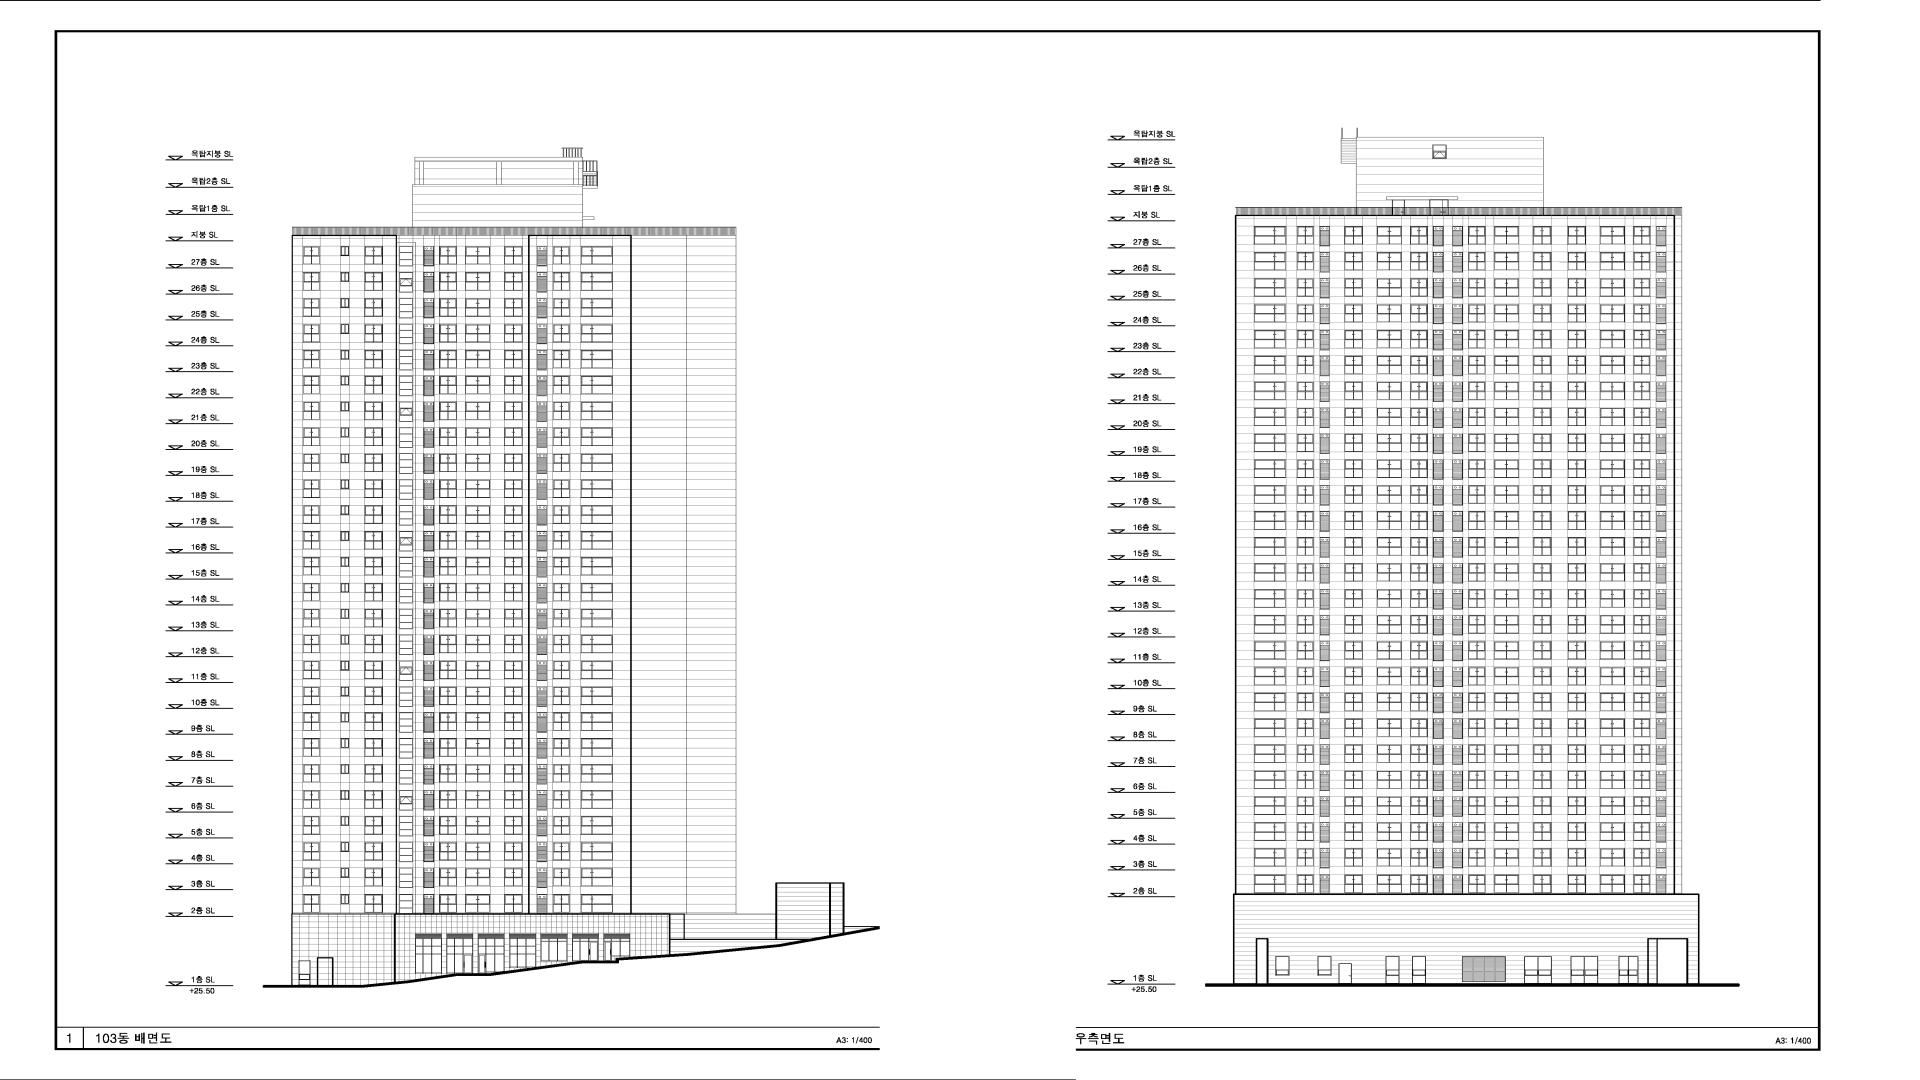door: (1656, 938, 1688, 984), (1255, 938, 1269, 984), (316, 957, 334, 985), (1338, 963, 1352, 984), (589, 942, 599, 961), (464, 953, 473, 973), (477, 953, 487, 973), (604, 940, 612, 960)
wall: (291, 157, 880, 988), (1233, 137, 1700, 986)
window: (1461, 956, 1506, 982), (415, 939, 442, 973), (509, 938, 537, 968), (1524, 956, 1552, 984), (1571, 956, 1598, 984), (580, 479, 613, 498), (485, 939, 505, 972), (1254, 225, 1286, 245), (1254, 303, 1286, 323), (580, 247, 613, 265), (580, 376, 613, 394), (580, 427, 613, 446), (580, 454, 613, 472), (580, 556, 613, 575), (580, 661, 613, 679), (580, 687, 613, 705), (580, 712, 613, 731), (580, 738, 613, 757), (580, 790, 613, 808), (580, 843, 613, 861), (580, 894, 613, 913), (1253, 330, 1286, 348), (541, 939, 567, 961), (580, 272, 612, 290), (580, 298, 612, 316), (580, 324, 612, 343), (580, 349, 612, 368), (580, 402, 612, 421), (580, 505, 612, 524), (580, 531, 612, 550), (580, 583, 612, 601), (580, 609, 612, 628), (580, 634, 612, 653), (580, 765, 612, 783), (580, 816, 612, 835), (580, 868, 612, 886), (1254, 252, 1286, 270), (1254, 278, 1286, 297), (1254, 356, 1286, 375), (1254, 382, 1286, 401), (1254, 407, 1286, 426), (1254, 434, 1286, 452), (1254, 459, 1286, 477), (1254, 485, 1286, 504), (1254, 512, 1286, 530), (1254, 537, 1286, 555), (1254, 563, 1286, 582), (1254, 589, 1286, 608), (1254, 615, 1286, 633), (1254, 641, 1286, 659), (1254, 667, 1286, 686), (1254, 692, 1286, 711), (1254, 719, 1286, 737), (1254, 745, 1286, 764), (1254, 771, 1286, 790), (1254, 796, 1286, 815), (1254, 823, 1286, 841), (1254, 848, 1286, 866), (1254, 874, 1286, 893), (447, 938, 463, 973), (1618, 956, 1638, 984), (464, 816, 491, 835), (464, 764, 491, 782), (464, 634, 491, 653), (465, 894, 491, 913), (465, 868, 491, 886), (465, 841, 491, 860), (465, 790, 491, 808), (465, 738, 491, 757), (465, 712, 491, 731), (465, 687, 491, 705), (465, 661, 491, 679), (465, 609, 491, 628), (465, 583, 491, 601), (465, 556, 491, 575), (465, 531, 491, 550), (465, 505, 491, 524), (465, 480, 491, 498), (465, 454, 491, 472), (465, 427, 491, 446), (465, 402, 491, 421), (465, 376, 491, 394), (465, 349, 491, 368), (465, 324, 491, 343), (465, 298, 491, 316), (465, 272, 491, 290), (465, 247, 491, 265), (1600, 485, 1625, 504), (1600, 459, 1625, 477), (1600, 434, 1625, 452), (1600, 407, 1625, 426), (1600, 381, 1625, 400), (1600, 356, 1625, 375), (1600, 330, 1625, 348), (1600, 303, 1625, 322), (1600, 278, 1625, 297), (1600, 252, 1625, 270), (1600, 225, 1625, 244), (1494, 407, 1519, 426), (1494, 434, 1519, 452), (1494, 459, 1519, 477), (1494, 485, 1519, 504), (1494, 512, 1519, 530), (1494, 537, 1519, 555), (1494, 563, 1519, 582), (1494, 589, 1519, 608), (1494, 615, 1519, 633), (1494, 641, 1519, 659), (1494, 667, 1519, 686), (1494, 692, 1519, 711), (1494, 719, 1519, 737), (1494, 745, 1519, 764), (1494, 770, 1519, 789), (1494, 796, 1519, 815), (1494, 848, 1519, 866), (1494, 874, 1519, 893), (1600, 874, 1625, 893), (1600, 848, 1625, 866), (1600, 823, 1625, 841), (1600, 796, 1625, 815), (1600, 770, 1625, 789), (1600, 745, 1625, 764), (1600, 719, 1625, 737), (1600, 692, 1625, 711), (1600, 667, 1625, 686), (1600, 641, 1625, 659), (1600, 615, 1625, 633), (1600, 589, 1625, 608), (1600, 563, 1625, 582), (1600, 537, 1625, 555), (1600, 512, 1625, 530), (1377, 874, 1402, 893), (1377, 848, 1402, 866), (1377, 823, 1402, 841), (1377, 796, 1402, 815), (1377, 770, 1402, 789), (1377, 745, 1402, 764), (1377, 719, 1402, 737), (1377, 692, 1402, 711), (1377, 667, 1402, 686), (1377, 641, 1402, 659), (1377, 589, 1402, 608), (1377, 563, 1402, 582), (1377, 537, 1402, 555), (1377, 512, 1402, 530), (1377, 485, 1402, 504), (1377, 459, 1402, 477), (1377, 434, 1402, 452), (1377, 407, 1402, 426), (1377, 381, 1402, 400), (1377, 356, 1402, 375), (1377, 330, 1402, 348), (1377, 303, 1402, 322), (1377, 278, 1402, 297), (1377, 252, 1402, 270), (1377, 227, 1402, 245), (1494, 225, 1519, 244), (1494, 252, 1519, 270), (1494, 278, 1519, 297), (1494, 303, 1519, 322), (1494, 330, 1519, 348), (1494, 356, 1519, 375), (1494, 381, 1519, 400), (1494, 823, 1519, 840), (1377, 616, 1402, 633), (1385, 956, 1399, 984), (572, 938, 588, 961), (364, 427, 384, 446), (364, 324, 384, 343), (504, 272, 524, 290), (504, 323, 524, 342), (504, 376, 524, 394), (504, 686, 524, 704), (504, 841, 522, 861), (364, 868, 384, 886), (364, 816, 384, 835), (364, 790, 384, 808), (364, 764, 384, 782), (364, 712, 384, 731), (364, 686, 384, 704), (364, 583, 384, 601), (364, 556, 384, 575), (364, 505, 384, 524), (1296, 225, 1315, 245), (1296, 615, 1315, 634), (1410, 381, 1428, 401), (1633, 381, 1651, 401), (1633, 537, 1651, 556), (1633, 615, 1651, 634), (1633, 848, 1651, 868), (1412, 956, 1425, 984), (1532, 225, 1552, 244), (1532, 252, 1552, 270), (1532, 278, 1552, 297), (1532, 303, 1552, 322), (1532, 330, 1552, 348), (1532, 382, 1552, 401), (1532, 407, 1552, 426), (1532, 434, 1552, 452), (1532, 459, 1552, 477), (1532, 485, 1552, 504), (1532, 512, 1552, 530), (1532, 537, 1552, 555), (1532, 589, 1552, 608), (1532, 615, 1552, 633), (1532, 641, 1552, 659), (1532, 719, 1552, 737), (1532, 848, 1552, 866), (1532, 874, 1552, 893), (1567, 770, 1586, 789), (1567, 745, 1586, 764), (1567, 589, 1586, 608), (1567, 512, 1586, 530), (1568, 459, 1586, 479), (1567, 381, 1585, 401), (1568, 355, 1586, 375), (1633, 225, 1651, 245), (302, 247, 320, 265), (302, 272, 320, 290), (302, 298, 320, 316), (302, 324, 320, 343), (302, 349, 320, 368), (302, 376, 320, 394), (302, 402, 320, 421), (302, 427, 320, 446), (302, 454, 320, 472), (302, 505, 320, 524), (302, 531, 320, 550), (302, 583, 320, 601), (302, 686, 320, 704), (302, 712, 320, 731), (302, 738, 320, 757), (302, 765, 320, 783), (302, 790, 320, 808), (302, 816, 320, 835), (302, 841, 320, 860), (364, 479, 382, 497), (364, 454, 382, 472), (364, 376, 382, 394), (364, 349, 382, 368), (364, 298, 382, 316), (364, 272, 382, 290), (504, 245, 522, 264), (504, 298, 522, 316), (504, 349, 522, 368), (504, 402, 522, 421), (504, 427, 522, 446), (504, 454, 522, 472), (504, 479, 522, 497), (504, 505, 522, 524), (504, 531, 522, 550), (504, 556, 522, 575), (504, 583, 522, 601), (504, 609, 522, 628), (504, 634, 522, 653), (504, 661, 522, 679), (504, 712, 522, 731), (504, 738, 522, 757), (504, 765, 522, 783), (504, 790, 522, 808), (504, 816, 522, 835), (504, 868, 522, 886), (504, 894, 522, 913), (612, 938, 630, 956), (364, 894, 382, 913), (364, 841, 382, 860), (364, 738, 382, 757), (364, 661, 382, 679), (364, 634, 382, 653), (364, 609, 382, 628), (364, 531, 382, 550), (1296, 356, 1315, 375), (1296, 407, 1315, 426), (1296, 434, 1315, 452), (1296, 667, 1315, 686), (1410, 356, 1428, 375), (1410, 407, 1428, 426), (1410, 434, 1428, 452), (1410, 459, 1428, 477), (1410, 485, 1428, 504), (1410, 512, 1428, 530), (1410, 537, 1428, 555), (1410, 563, 1428, 582), (1410, 589, 1428, 608), (1410, 615, 1428, 633), (1410, 641, 1428, 659), (1410, 692, 1428, 711), (1410, 719, 1428, 737), (1410, 745, 1428, 764), (1410, 770, 1428, 789), (1410, 796, 1428, 815), (1410, 822, 1428, 840), (1410, 848, 1428, 866), (1410, 874, 1428, 893), (1468, 874, 1486, 893), (1468, 848, 1486, 866), (1633, 305, 1651, 323), (1633, 330, 1651, 348), (1633, 356, 1651, 375), (1633, 434, 1651, 452), (1633, 459, 1651, 477), (1633, 485, 1651, 504), (1633, 563, 1651, 582), (1633, 589, 1651, 608), (1633, 667, 1651, 686), (1633, 692, 1651, 711), (1633, 719, 1651, 737), (1633, 745, 1651, 764), (1633, 770, 1651, 789), (1633, 796, 1651, 815), (1633, 823, 1651, 841), (1633, 876, 1651, 894), (1534, 356, 1552, 375), (1534, 563, 1552, 582), (1532, 667, 1551, 686), (1534, 692, 1552, 711), (1534, 745, 1552, 764), (1296, 874, 1315, 893), (1344, 796, 1362, 815), (1345, 641, 1364, 659), (1345, 330, 1364, 348), (1345, 252, 1364, 270), (1410, 227, 1428, 245), (1410, 252, 1428, 270), (1410, 278, 1428, 297), (1410, 303, 1428, 322), (1410, 330, 1428, 348), (1532, 770, 1551, 789), (1532, 796, 1551, 815), (1532, 823, 1551, 841), (1567, 874, 1585, 893), (1567, 848, 1585, 866), (1568, 823, 1586, 841), (1568, 796, 1586, 815), (1568, 719, 1586, 737), (1568, 692, 1586, 711), (1568, 667, 1586, 686), (1568, 641, 1586, 659), (1568, 615, 1586, 633), (1568, 563, 1586, 582), (1567, 537, 1585, 555), (1568, 485, 1586, 504), (1567, 434, 1585, 452), (1568, 407, 1586, 426), (1568, 330, 1586, 348), (1568, 303, 1586, 322), (1568, 278, 1586, 297), (1567, 252, 1585, 270), (1568, 225, 1586, 244), (1633, 252, 1651, 270), (1633, 278, 1651, 297), (364, 247, 384, 264), (1296, 537, 1313, 556), (1296, 822, 1313, 841), (298, 960, 311, 985), (303, 556, 320, 575), (303, 609, 320, 628), (303, 634, 320, 653), (303, 661, 320, 679), (364, 402, 382, 419), (439, 427, 456, 446), (439, 454, 456, 472), (439, 479, 456, 497), (439, 505, 456, 524), (439, 531, 456, 550), (439, 556, 456, 575), (439, 583, 456, 601), (439, 609, 456, 628), (439, 634, 456, 653), (439, 661, 456, 679), (439, 687, 456, 705), (439, 712, 456, 731), (439, 738, 456, 757), (439, 764, 456, 782), (439, 790, 456, 808), (439, 816, 456, 835), (439, 841, 456, 860), (439, 868, 456, 886), (439, 894, 456, 913), (303, 868, 320, 886), (303, 894, 320, 913), (553, 894, 570, 913), (553, 868, 570, 886), (553, 841, 570, 860), (553, 816, 570, 835), (553, 790, 570, 808), (553, 764, 570, 782), (553, 738, 570, 757), (553, 712, 570, 731), (553, 686, 570, 704), (553, 661, 570, 679), (553, 634, 570, 653), (553, 609, 570, 628), (553, 583, 570, 601), (553, 556, 570, 575), (553, 531, 570, 550), (553, 505, 570, 524), (553, 479, 570, 497), (553, 454, 570, 472), (553, 427, 570, 446), (553, 376, 570, 394), (553, 349, 570, 368), (553, 324, 570, 343), (553, 298, 570, 316), (553, 272, 570, 290), (553, 247, 570, 265), (439, 247, 456, 265), (439, 272, 456, 290), (439, 298, 456, 316), (439, 324, 456, 343), (439, 349, 456, 368), (439, 376, 456, 394), (1296, 252, 1313, 270), (1296, 278, 1313, 297), (1296, 305, 1313, 323), (1296, 330, 1313, 348), (1296, 381, 1313, 400), (1296, 459, 1313, 477), (1296, 485, 1313, 504), (1296, 512, 1313, 530), (1296, 563, 1313, 582), (1296, 589, 1313, 608), (1296, 641, 1313, 659), (1296, 692, 1313, 711), (1296, 719, 1313, 737), (1296, 745, 1313, 764), (1296, 770, 1313, 789), (1296, 796, 1313, 815), (1411, 667, 1428, 686), (1468, 822, 1485, 840), (1469, 796, 1486, 815), (1468, 770, 1485, 789), (1468, 745, 1485, 764), (1468, 719, 1485, 737), (1468, 692, 1485, 711), (1468, 666, 1485, 684), (1469, 641, 1486, 659), (1469, 615, 1486, 633), (1468, 589, 1485, 608), (1468, 563, 1485, 582), (1634, 407, 1651, 426), (1634, 512, 1651, 530), (1633, 641, 1650, 659), (1469, 537, 1486, 555), (1469, 512, 1486, 530), (1469, 485, 1486, 504), (1468, 459, 1485, 477), (1468, 434, 1485, 452), (1468, 407, 1485, 426), (1469, 382, 1486, 401), (1468, 356, 1485, 375), (1469, 330, 1486, 348), (1469, 303, 1486, 322), (1469, 278, 1486, 297), (1468, 252, 1485, 270), (1469, 225, 1486, 244), (1296, 848, 1313, 866), (1345, 874, 1362, 893), (1345, 848, 1362, 866), (1345, 822, 1362, 840), (1345, 770, 1362, 789), (1345, 745, 1362, 764), (1345, 719, 1362, 737), (1345, 692, 1362, 711), (1345, 667, 1362, 686), (1345, 615, 1362, 633), (1345, 589, 1362, 608), (1345, 563, 1362, 582), (1345, 537, 1362, 555), (1345, 512, 1362, 530), (1345, 485, 1362, 504), (1345, 459, 1362, 477), (1345, 434, 1362, 452), (1345, 407, 1362, 426), (1345, 381, 1362, 400), (1345, 356, 1362, 375), (1345, 305, 1362, 323), (1345, 278, 1362, 297), (1345, 225, 1362, 244), (398, 427, 413, 448), (303, 480, 320, 497), (553, 402, 570, 419), (439, 402, 456, 419), (1275, 956, 1290, 976), (1317, 956, 1332, 976), (400, 349, 413, 371), (400, 479, 413, 500), (400, 556, 413, 578), (400, 634, 413, 655), (400, 841, 413, 862), (400, 868, 413, 887), (400, 247, 413, 266), (400, 272, 413, 291), (400, 298, 413, 318), (400, 324, 413, 344), (400, 376, 413, 396), (400, 402, 413, 422), (400, 454, 413, 473), (400, 505, 413, 525), (400, 531, 413, 551), (400, 583, 413, 603), (400, 609, 413, 629), (400, 661, 413, 680), (400, 687, 413, 707), (400, 712, 413, 732), (400, 738, 413, 758), (400, 765, 413, 785), (400, 790, 413, 810), (400, 816, 413, 836), (423, 349, 435, 371), (1452, 252, 1464, 273), (400, 894, 413, 913), (1452, 745, 1464, 765), (1452, 667, 1464, 687), (537, 427, 547, 448), (537, 479, 547, 500), (537, 556, 547, 578), (537, 634, 547, 655), (537, 790, 547, 811), (423, 841, 434, 862), (423, 790, 434, 811), (423, 634, 434, 655), (423, 556, 434, 578), (423, 479, 434, 500), (423, 427, 434, 448), (423, 272, 434, 293), (537, 272, 547, 293), (537, 349, 547, 371), (1656, 692, 1667, 713), (1656, 641, 1667, 662), (1432, 225, 1443, 247), (1319, 303, 1329, 324), (1320, 381, 1331, 402), (1319, 459, 1329, 480), (1320, 537, 1331, 558), (1319, 563, 1329, 584), (1320, 615, 1331, 636), (1319, 719, 1329, 740), (1319, 770, 1329, 791), (1319, 848, 1329, 869), (1452, 692, 1462, 713), (1452, 719, 1462, 740), (1452, 770, 1462, 791), (1432, 692, 1443, 713), (1433, 537, 1444, 558), (1433, 459, 1444, 480), (1433, 381, 1444, 402), (1433, 303, 1444, 324), (1655, 615, 1665, 636), (1656, 563, 1667, 584), (1656, 537, 1667, 558), (1655, 485, 1665, 506), (1656, 459, 1667, 480), (1656, 407, 1667, 429), (1656, 330, 1667, 351), (1656, 303, 1667, 324), (1656, 252, 1667, 273), (1656, 225, 1667, 247), (1452, 225, 1462, 247), (1452, 303, 1462, 324), (1452, 330, 1462, 351), (1452, 381, 1462, 402), (1452, 459, 1462, 480), (1452, 510, 1462, 531), (1452, 537, 1462, 558), (1452, 563, 1462, 584), (1452, 589, 1462, 611), (1452, 615, 1462, 636), (1452, 641, 1462, 662), (537, 454, 547, 473), (537, 505, 547, 525), (537, 531, 547, 551), (537, 583, 547, 603), (537, 609, 547, 629), (537, 661, 547, 680), (537, 687, 547, 707), (537, 712, 547, 732), (537, 738, 547, 758), (537, 765, 547, 785), (537, 816, 547, 836), (537, 843, 547, 862), (537, 868, 547, 887), (537, 894, 547, 914), (423, 894, 434, 914), (423, 868, 434, 887), (423, 816, 434, 836), (423, 765, 434, 785), (423, 738, 434, 758), (423, 712, 434, 732), (423, 687, 434, 707), (423, 661, 434, 680), (423, 609, 434, 629), (423, 583, 434, 603), (423, 531, 434, 551), (423, 505, 434, 525), (423, 454, 434, 473), (423, 402, 434, 422), (423, 376, 434, 396), (423, 324, 434, 344), (423, 298, 434, 318), (423, 247, 434, 266), (537, 247, 547, 266), (537, 298, 547, 318), (537, 324, 547, 344), (537, 376, 547, 396), (537, 402, 547, 422), (1656, 719, 1667, 738), (1656, 667, 1667, 687), (1320, 227, 1331, 247), (1319, 252, 1329, 272), (1320, 278, 1331, 298), (1320, 330, 1331, 349), (1320, 356, 1331, 376), (1319, 407, 1329, 427), (1320, 434, 1331, 454), (1320, 485, 1331, 505), (1319, 512, 1329, 531), (1319, 589, 1329, 609), (1319, 641, 1329, 661), (1319, 667, 1329, 687), (1320, 694, 1331, 713), (1319, 745, 1329, 765), (1319, 796, 1329, 816), (1320, 823, 1331, 843), (1320, 874, 1331, 894), (1452, 796, 1462, 816), (1452, 823, 1462, 843), (1452, 848, 1462, 868), (1452, 874, 1462, 894), (1433, 874, 1444, 894), (1433, 848, 1444, 868), (1433, 823, 1444, 843), (1432, 796, 1443, 816), (1433, 770, 1444, 790), (1433, 745, 1444, 765), (1433, 719, 1444, 738), (1432, 667, 1443, 687), (1432, 641, 1443, 661), (1432, 616, 1443, 636), (1433, 589, 1444, 609), (1433, 563, 1444, 583), (1432, 512, 1443, 531), (1432, 485, 1443, 505), (1432, 434, 1443, 454), (1433, 407, 1444, 427), (1432, 356, 1443, 376), (1432, 330, 1443, 349), (1433, 278, 1444, 298), (1432, 252, 1443, 272), (1656, 589, 1667, 609), (1656, 512, 1667, 531), (1656, 434, 1667, 454), (1656, 382, 1667, 402), (1656, 356, 1667, 376), (1656, 278, 1667, 298), (1452, 278, 1462, 298), (1452, 356, 1462, 376), (1452, 407, 1462, 427), (1452, 434, 1462, 454), (1452, 485, 1462, 505), (1656, 874, 1665, 894), (1656, 823, 1665, 843), (1656, 796, 1665, 816), (1656, 745, 1665, 765), (1656, 849, 1665, 868), (1656, 771, 1665, 790), (340, 894, 349, 905), (340, 868, 349, 878), (340, 841, 349, 852), (340, 790, 349, 800), (340, 712, 349, 723), (340, 686, 349, 696), (340, 661, 349, 671), (340, 634, 349, 645), (340, 556, 349, 567), (340, 505, 349, 516), (340, 479, 349, 489), (340, 427, 349, 438), (340, 349, 349, 360), (340, 298, 349, 309), (340, 272, 349, 282), (340, 245, 349, 256), (340, 816, 349, 825), (340, 765, 349, 774), (340, 738, 349, 748), (340, 609, 349, 618), (340, 583, 349, 592), (340, 531, 349, 541), (340, 454, 349, 463), (340, 402, 349, 411), (340, 376, 349, 385), (340, 324, 349, 334)
